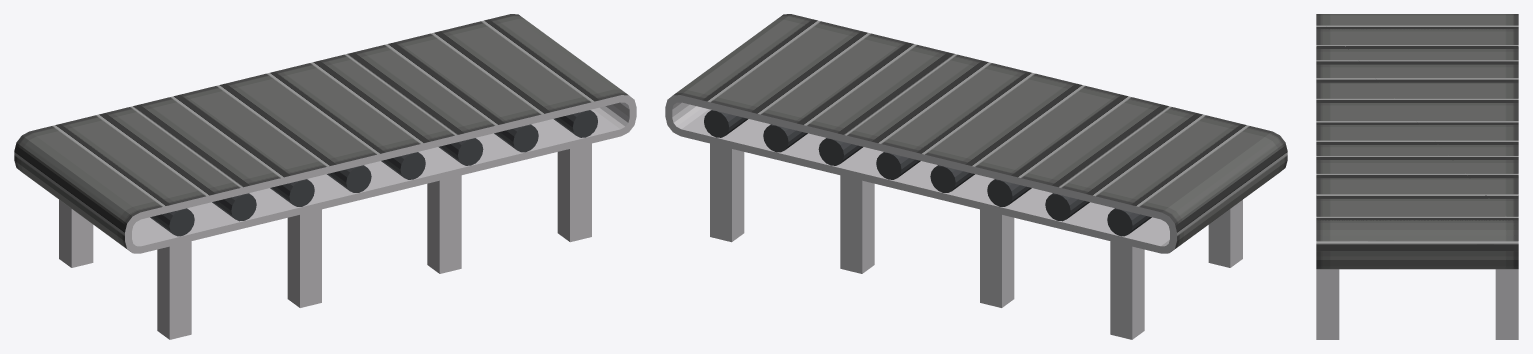
The model's file is Conveyor.fbx.
The picture shows the model from 3 angles, left to right: view 1: azimuth 30°, elevation 25°; view 2: azimuth 150°, elevation 25°; view 3: azimuth 270°, elevation 25°; orthographic projection. The views are drawn at different scales.
Visible parts, largest first — view 1: ConveyorBelt, Conveyor; view 2: ConveyorBelt, Conveyor; view 3: ConveyorBelt, Conveyor.
Boxes of the visible parts, x1,y1,x2,y2 form: ConveyorBelt: (14,14,628,251); Conveyor: (59,95,636,339); ConveyorBelt: (673,14,1287,251); Conveyor: (665,95,1242,339); ConveyorBelt: (1316,14,1518,269); Conveyor: (1316,269,1518,339).
Bounding box in the file's own units: 8 × 2.01 × 3.
